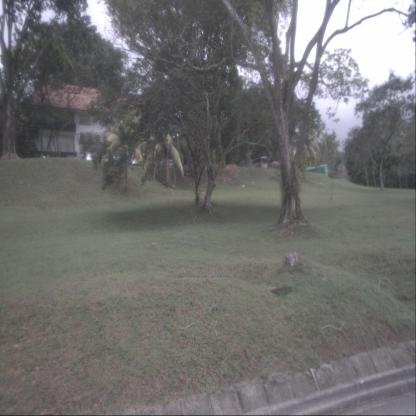vehicle-bus-rigid: (246, 156, 268, 171)
vehicle-car: (158, 156, 173, 168), (80, 151, 94, 163)
